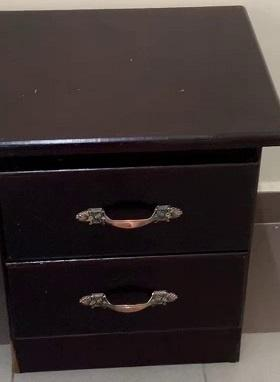cabinet_door: (2, 159, 251, 255), (10, 255, 244, 333)
handle: (73, 200, 187, 235), (76, 284, 180, 321)
